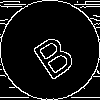B: (25, 25, 78, 82)
